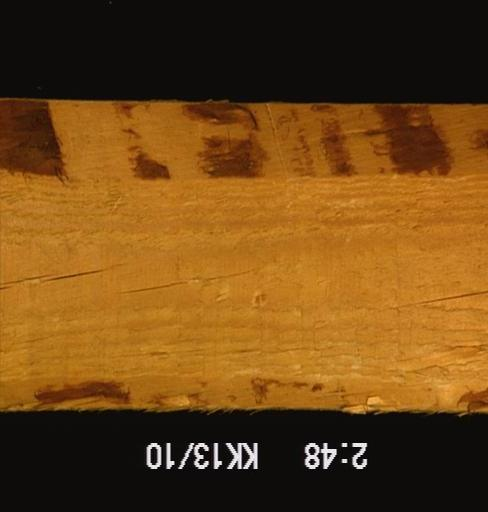split: (121, 272, 259, 299), (367, 286, 486, 317), (1, 263, 115, 290)
wave: (0, 94, 486, 178), (0, 379, 486, 410)
